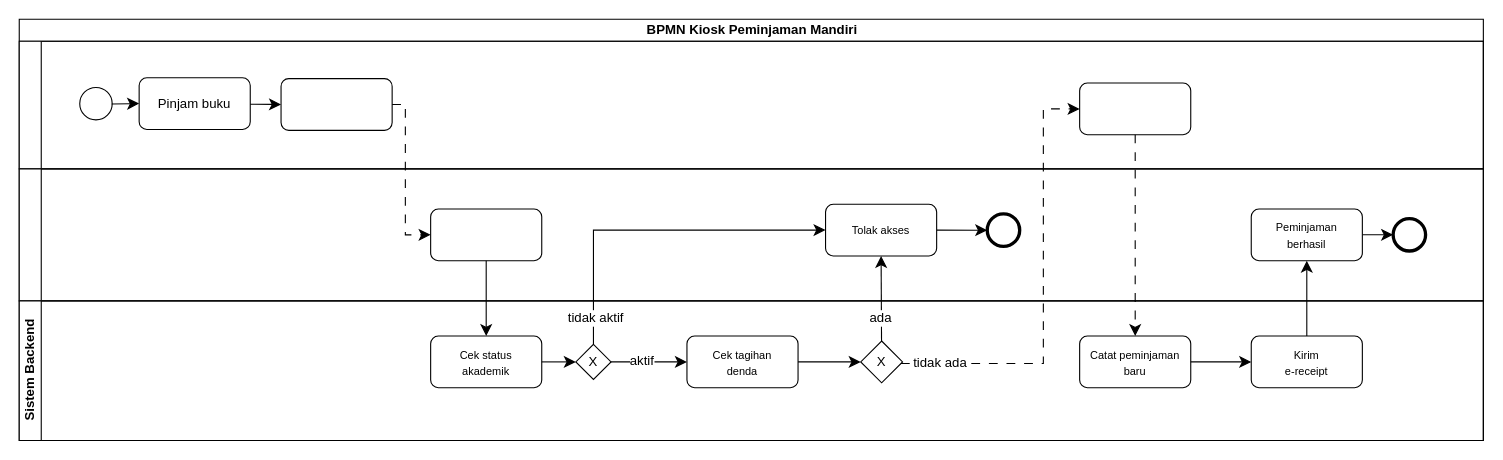
Image size: 1503x460. Some labels were removed from this diagram. Here are the shapes that lost their labels. From the top down, the box of each, then its label:
(280, 78, 392, 130): Scan KTM
(18, 40, 1483, 169): Mahasiswa
(1079, 82, 1191, 135): Scan buku
(430, 208, 542, 261): Request validasi mahasiswa
(18, 168, 1483, 301): Sistem Kiosk
